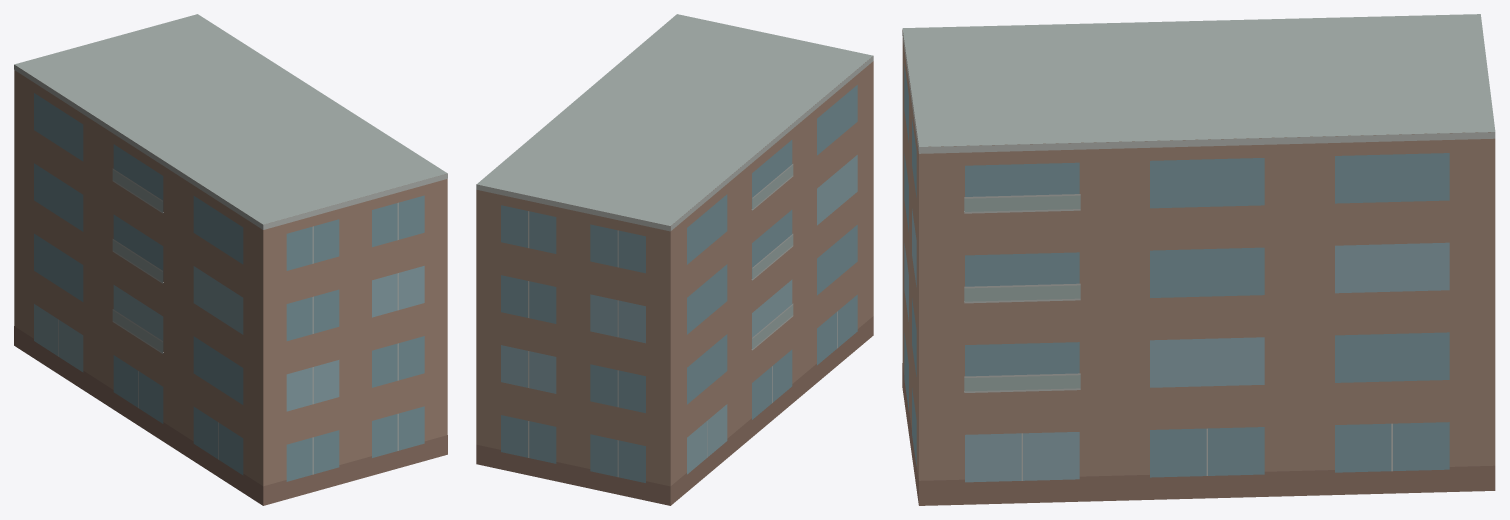
File: survey-upis-32701691.glb
3 renders of one model, left to right at view 1: azimuth 30°, elevation 25°; view 2: azimuth 150°, elevation 25°; view 3: azimuth 270°, elevation 25°, orthographic. The views are drawn at different scales.
Visible parts, largest first — view 1: survey-upis-32701691.tmp; view 2: survey-upis-32701691.tmp; view 3: survey-upis-32701691.tmp.
Boxes of the visible parts, left/top/right/bottom form: survey-upis-32701691.tmp: left=14, top=14, right=447, bottom=505; survey-upis-32701691.tmp: left=476, top=14, right=873, bottom=505; survey-upis-32701691.tmp: left=902, top=14, right=1495, bottom=505.
Bounding box in the file's own units: 10.19 × 12.8 × 19.18.
